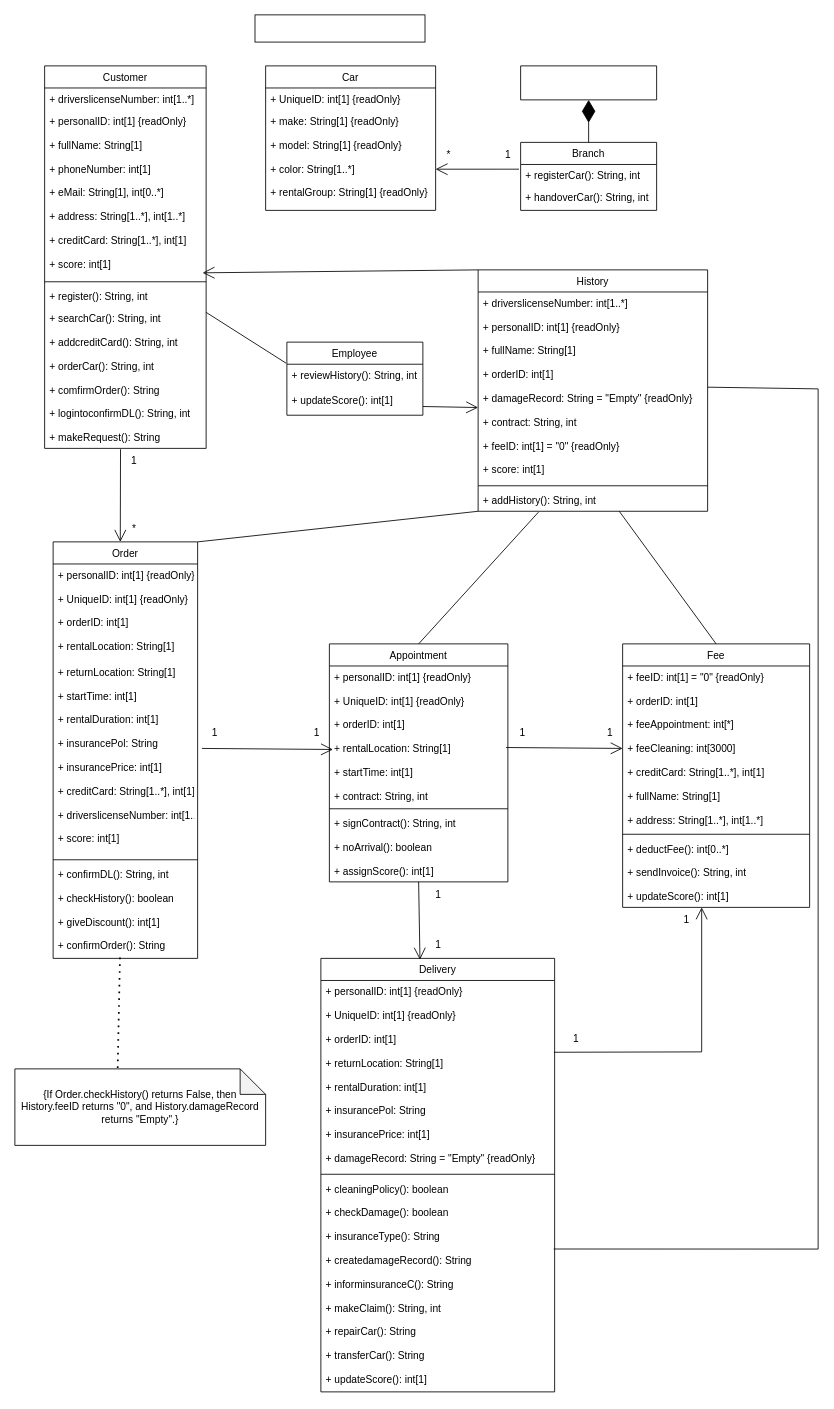
This 834x1409 diagram has some shape labels left out. The shapes that lost their labels are listed below. From the top down, each one's centre as x and y in pixels, then its label:
At point 339,28: "UML Class Diagram: domain model".
At point 588,82: "Car Rental Company".
